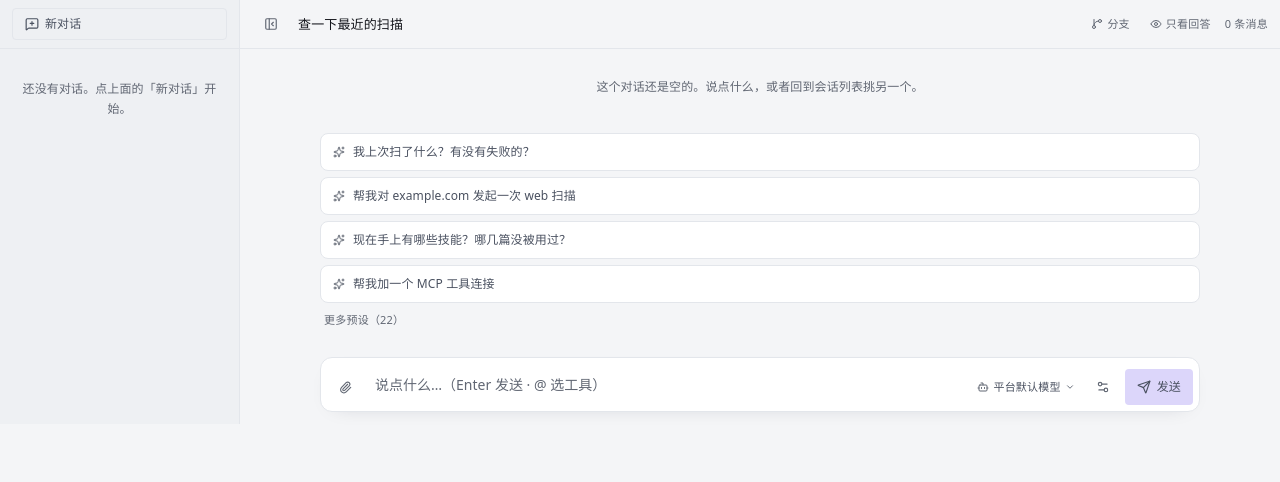
ChatPage — 拿不到会话列表时给重试，而不是伪装成空 › ★ v1.80：MCP 多选可勾选保存，并展示真实试连结果
Click the button named "对话设置": point(1103, 387) [1085,369,1121,405]
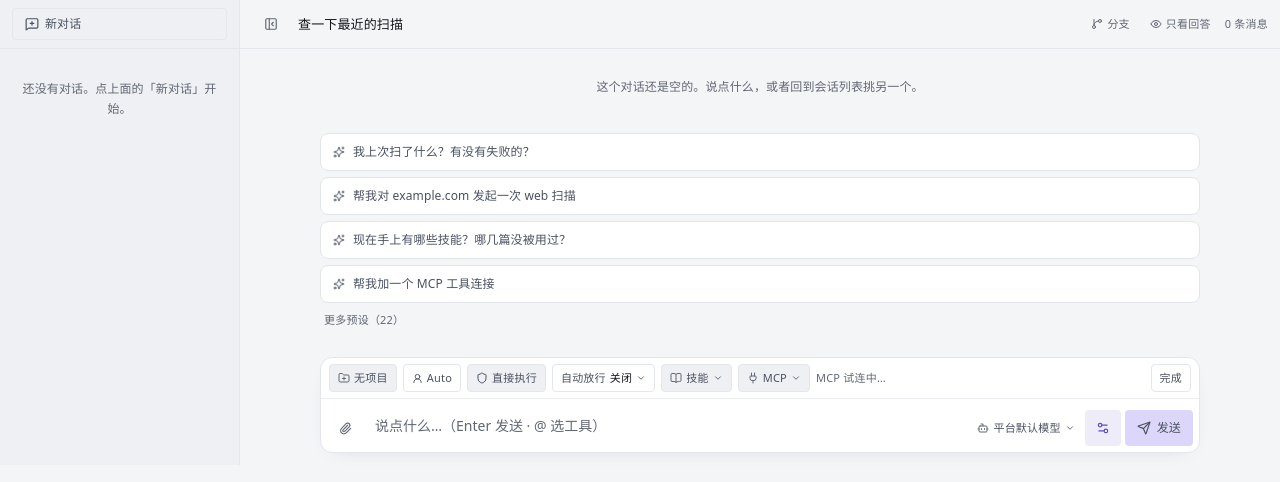
Click the button "MCP": point(774, 378) [738,364,810,392]
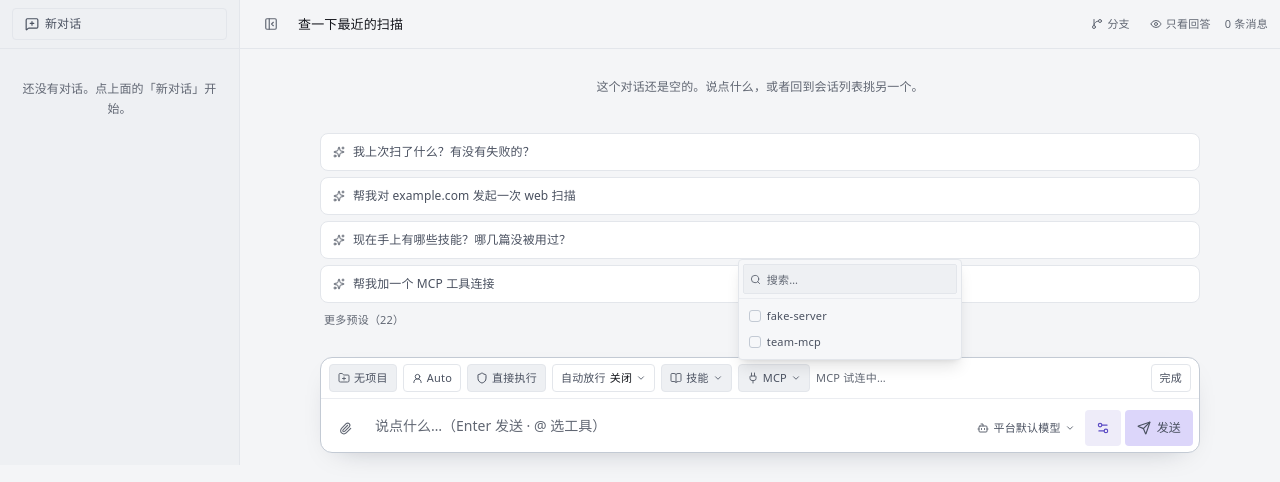
Expected: the text "fake-server" is shown, [767,307,827,325]
Expected: the text "team-mcp" is shown, [767,333,821,351]
Click the option "fake-server": point(850, 316) [743,303,957,329]
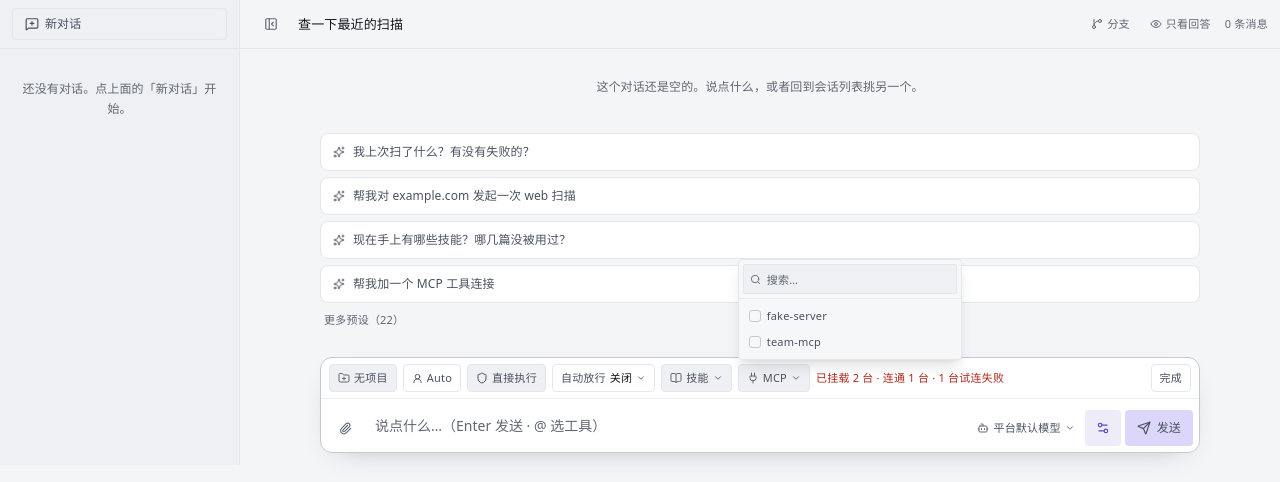
Expected: the text "已挂载 2 台 · 连通 1 台 · 1 台试连失败" is shown, [816,369,1004,387]
